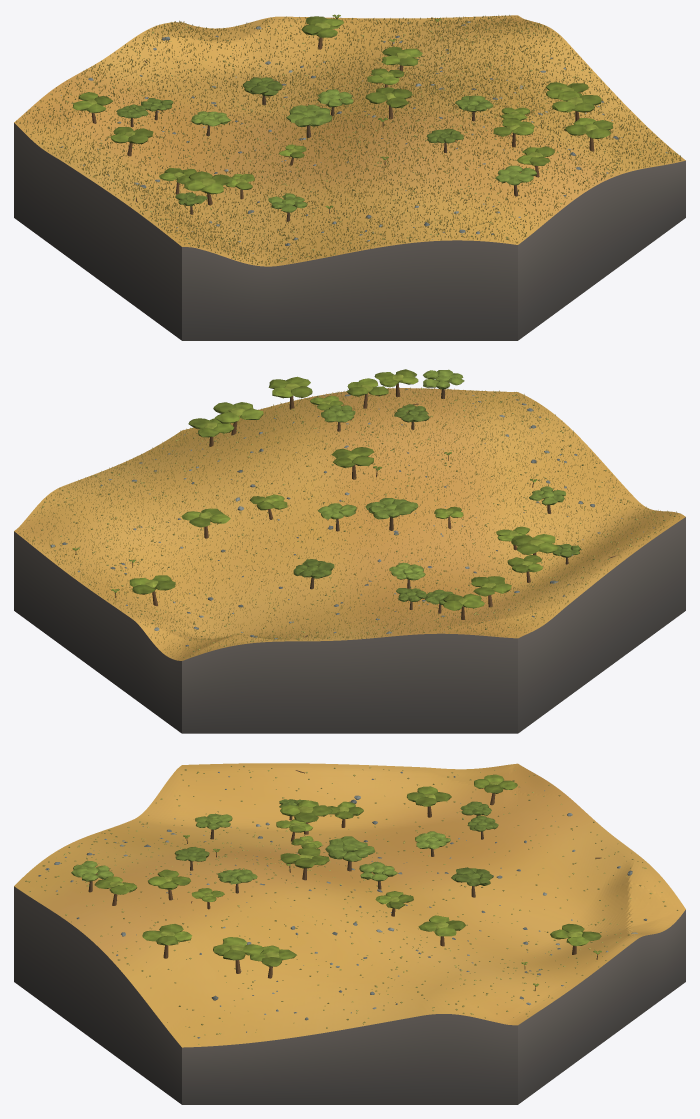
3 views of the same model, one above another, from view 1: azimuth 30°, elevation 25°; view 2: azimuth 150°, elevation 25°; view 3: azimuth 270°, elevation 25° (orthographic).
Parts seen in each view (by area): view 1: terrain, hex_side_cut, wildflowers, broadleaf_canopy, shrubs, boulders, trunks; view 2: terrain, hex_side_cut, wildflowers, broadleaf_canopy, shrubs, boulders, trunks; view 3: terrain, hex_side_cut, broadleaf_canopy, shrubs, boulders, trunks.
Boxes of the visible parts, <box> form: terrain: <box>14,15,685,266</box>; hex_side_cut: <box>14,123,685,340</box>; wildflowers: <box>16,15,681,265</box>; broadleaf_canopy: <box>73,14,613,212</box>; shrubs: <box>27,16,675,263</box>; boulders: <box>60,21,667,256</box>; trunks: <box>91,18,594,221</box>; terrain: <box>14,388,685,660</box>; hex_side_cut: <box>14,517,685,733</box>; wildflowers: <box>18,387,680,659</box>; broadleaf_canopy: <box>72,369,580,610</box>; shrubs: <box>28,388,675,657</box>; boulders: <box>50,389,654,646</box>; trunks: <box>75,384,568,619</box>; terrain: <box>14,763,685,1047</box>; hex_side_cut: <box>14,886,685,1104</box>; broadleaf_canopy: <box>71,774,601,986</box>; shrubs: <box>25,766,678,1044</box>; boulders: <box>38,771,647,1038</box>; trunks: <box>88,793,597,990</box>.
Bounding box in the file's own units: 4330 × 1165 × 5000.
